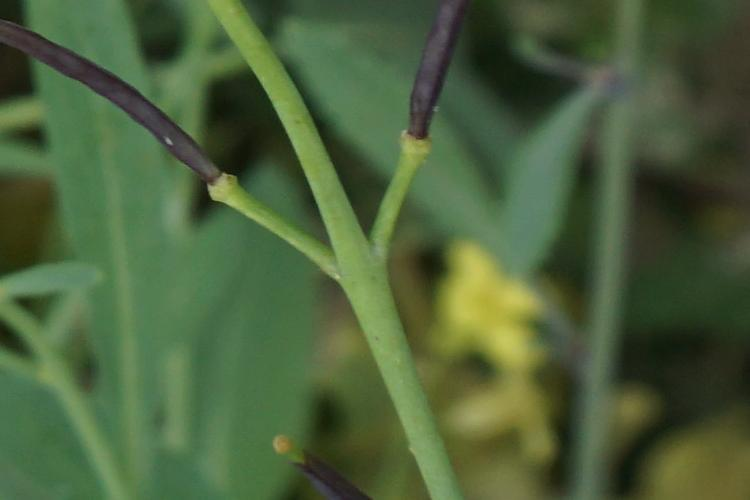pod: (11, 18, 232, 196), (393, 5, 491, 155), (260, 436, 374, 500)
